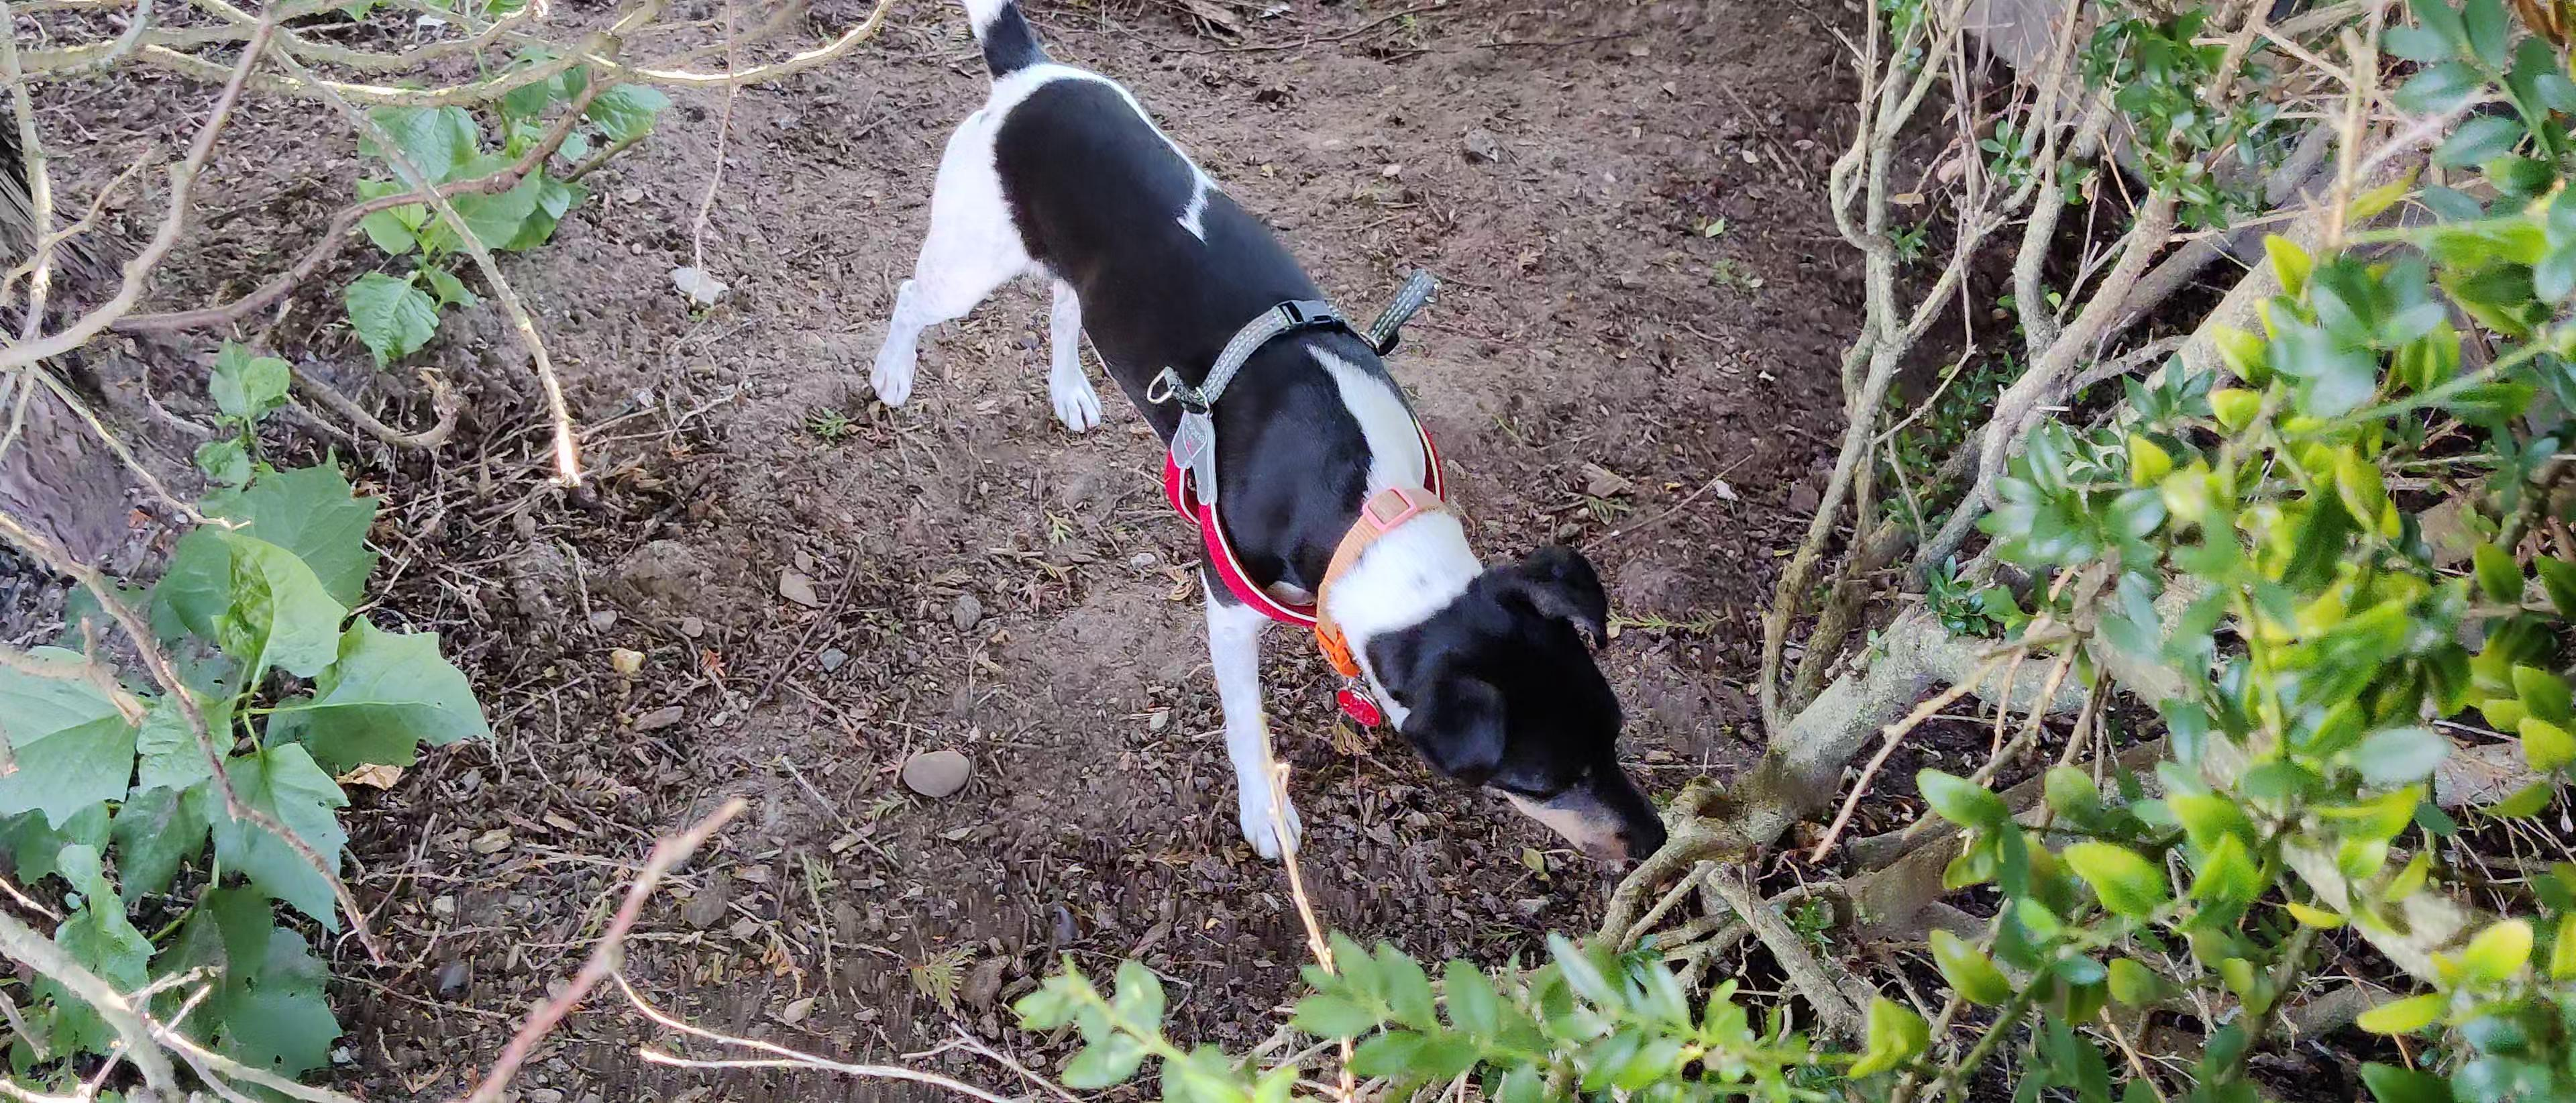Dog: (828, 0, 1705, 889)
